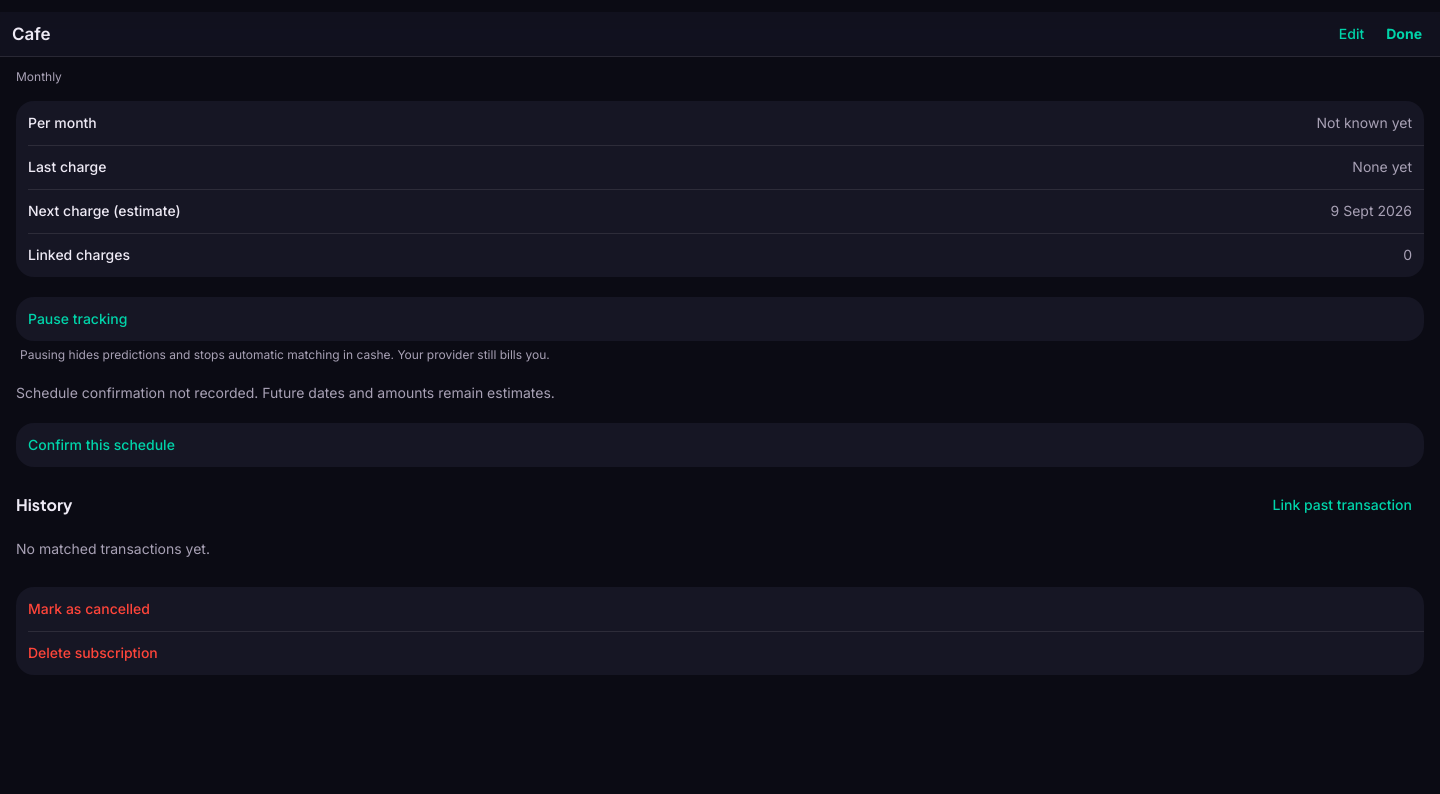
Test: failed pause retains schedule and allows retry
Click the button "Pause tracking" at (78, 318), box [16,297,1424,341]
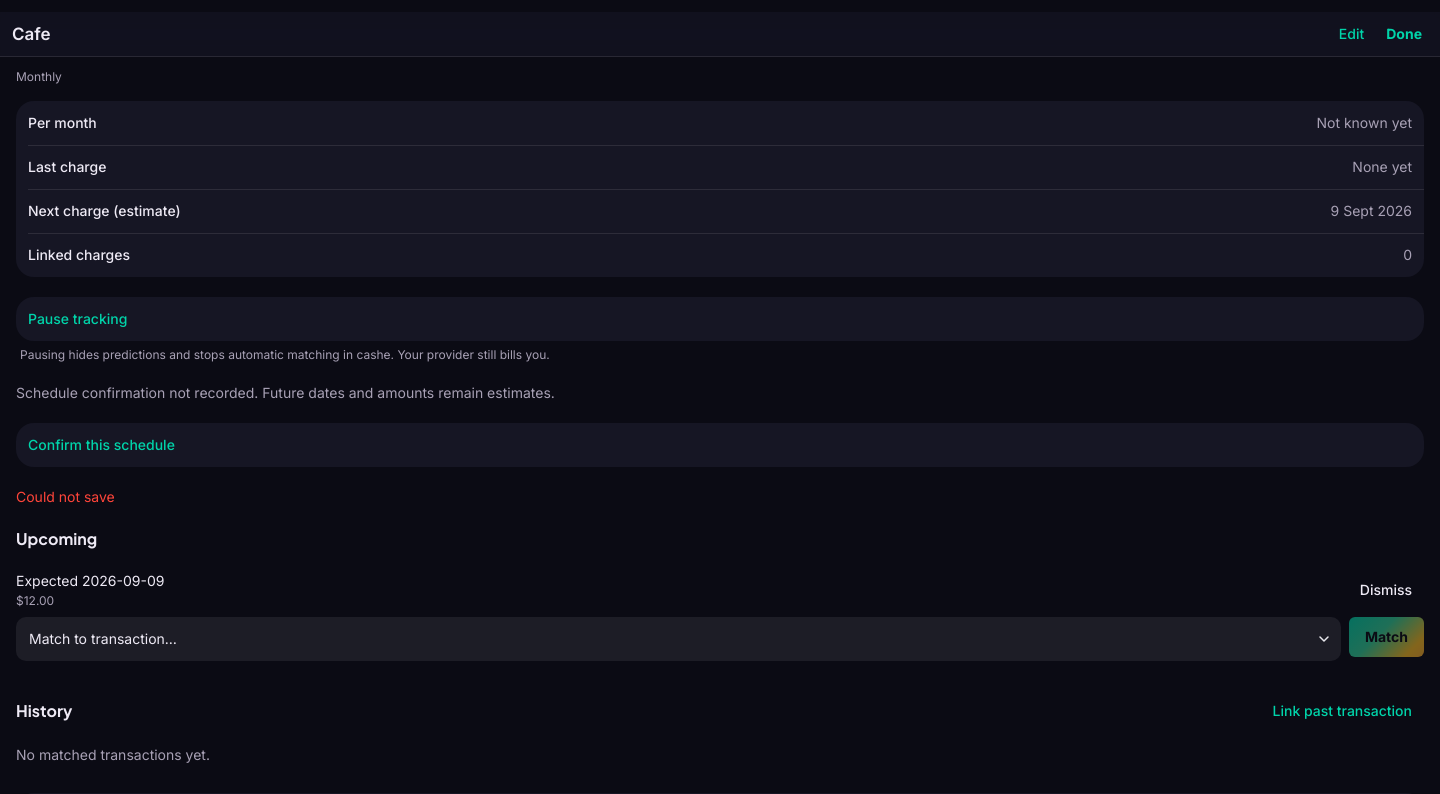
expect the message reads "Could not save": met, box [16,488,115,505]
Click the button "Pause tracking" at (78, 318), box [16,297,1424,341]
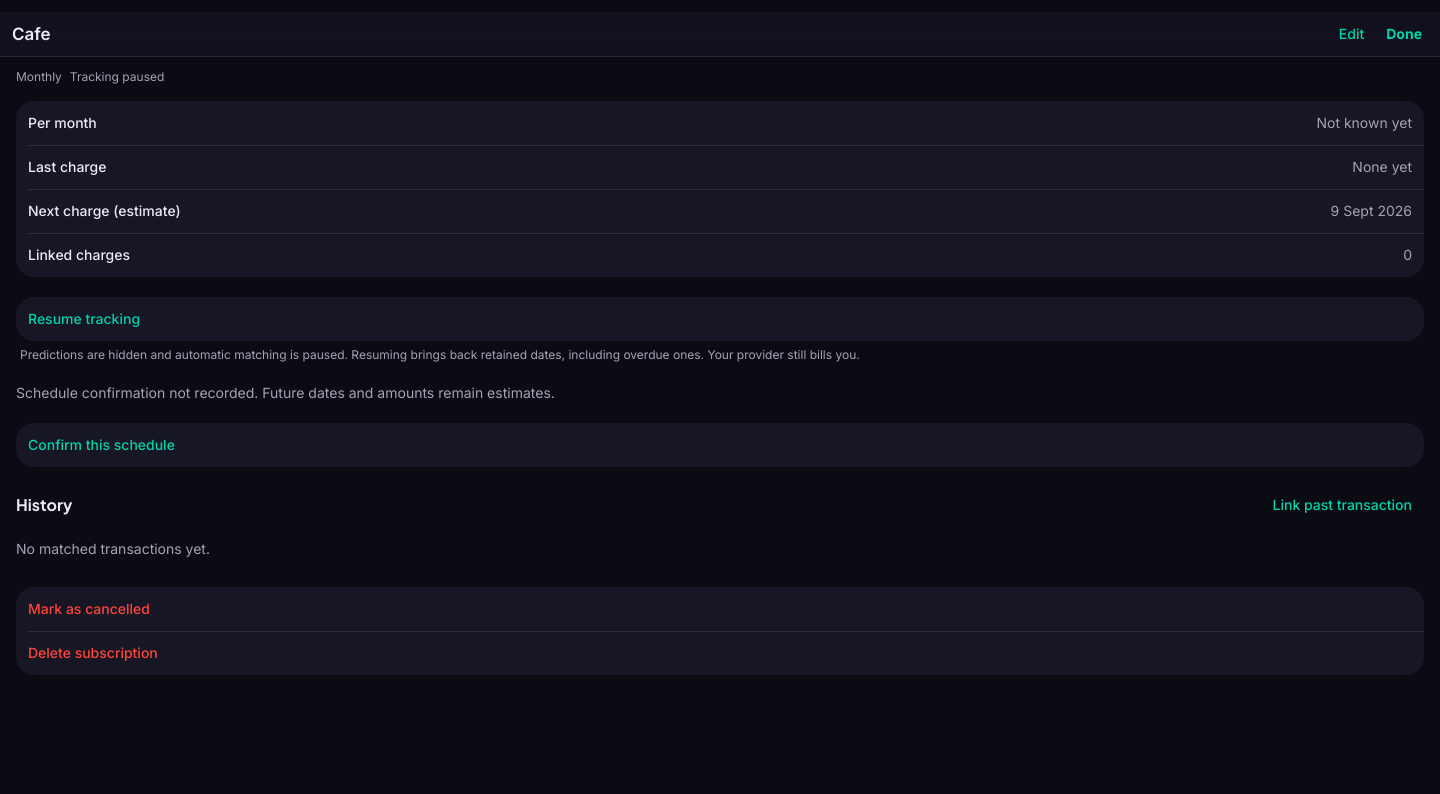
expect the button "Resume tracking" is shown: met, box [16,297,1424,341]
